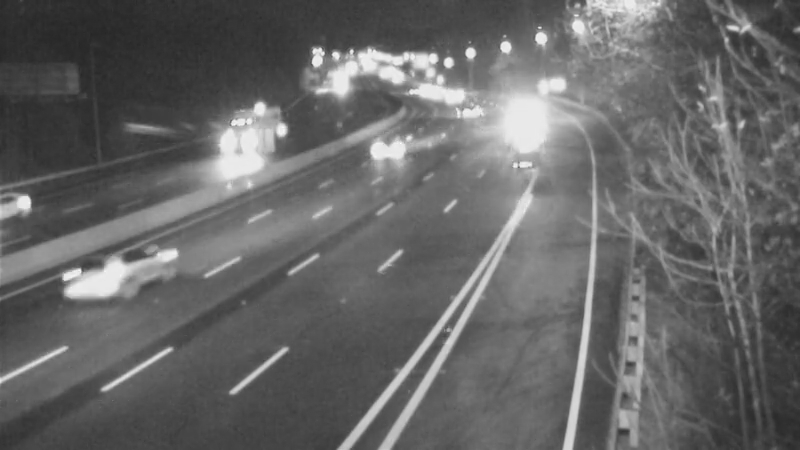vehicle: (344, 113, 424, 193), (60, 238, 140, 318), (1, 168, 71, 248), (427, 70, 477, 120), (444, 89, 494, 139), (500, 98, 550, 148), (211, 114, 261, 164)
